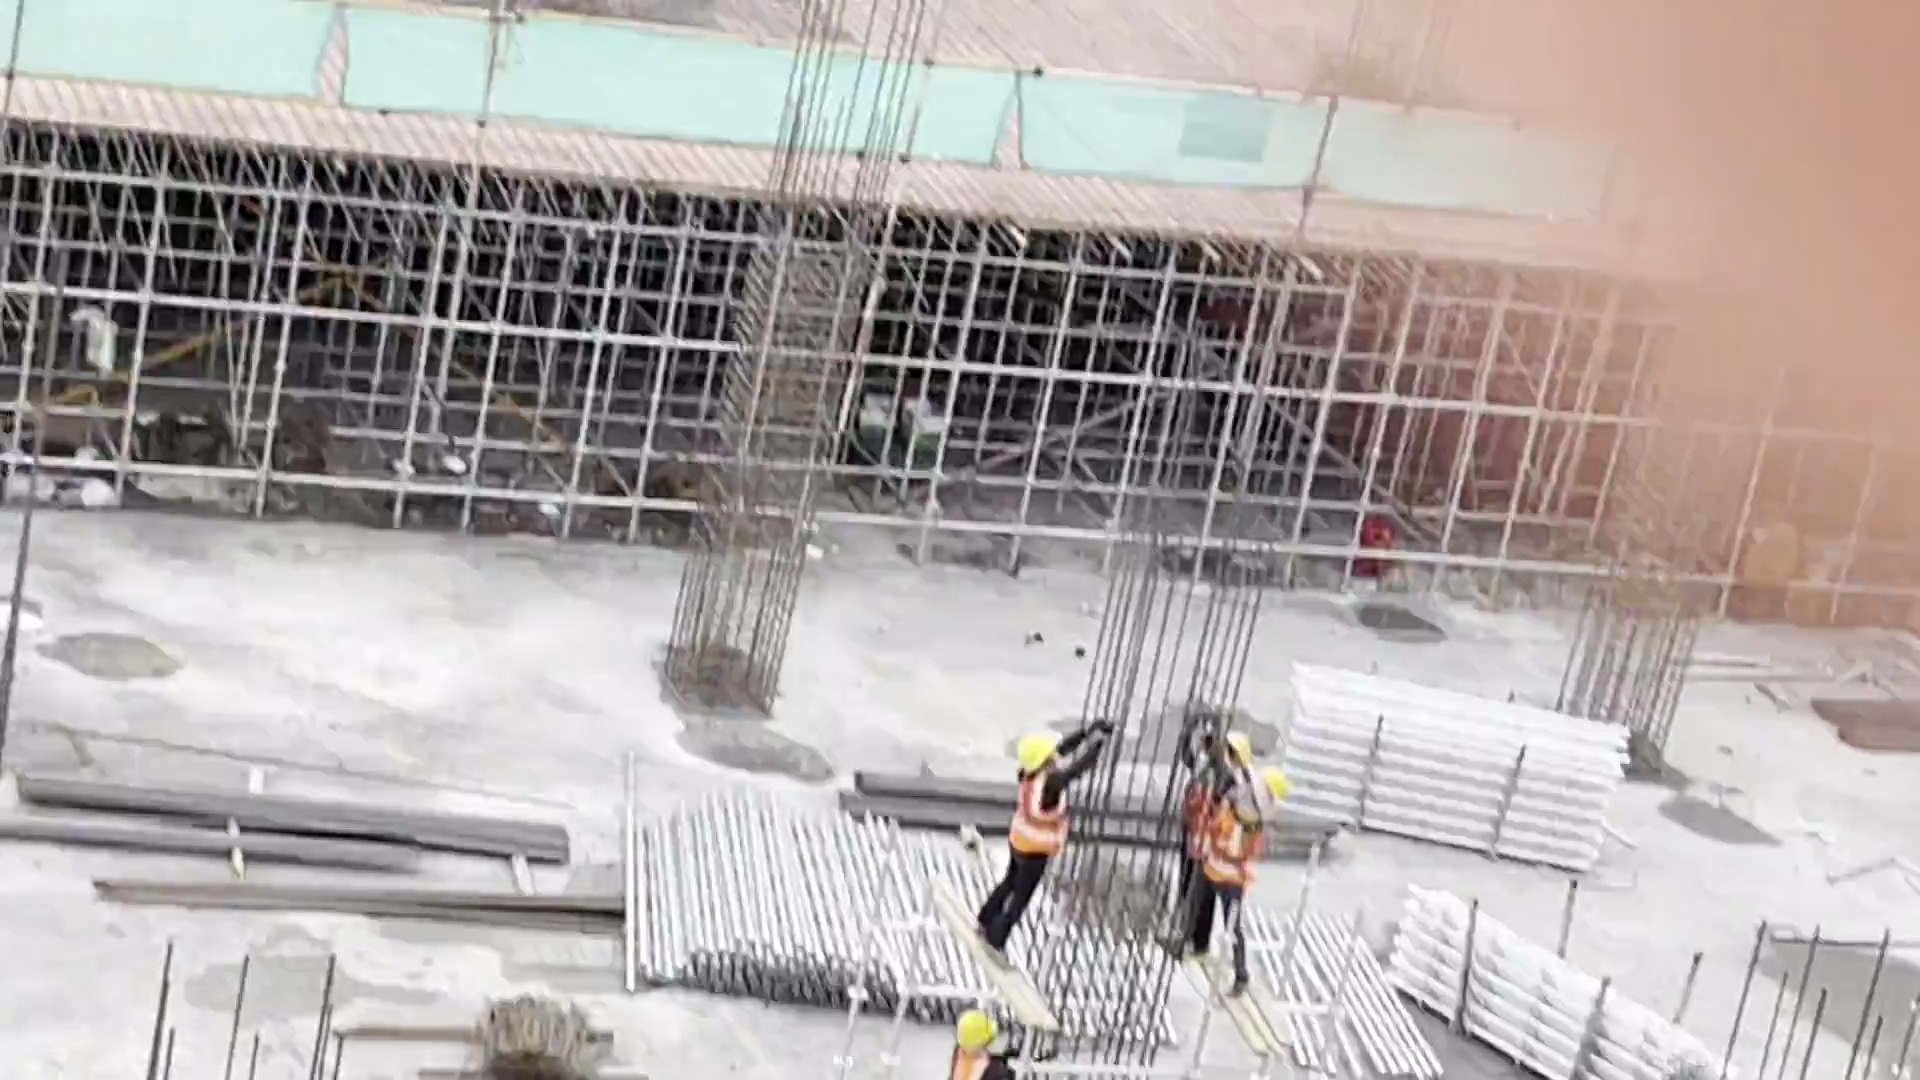helmet: (1018, 724, 1063, 771), (954, 1011, 997, 1053), (1230, 731, 1254, 772), (1260, 772, 1286, 809)
person: (985, 723, 1071, 954), (1207, 771, 1286, 991), (1178, 720, 1240, 887)
rebar: (17, 767, 575, 860), (1, 799, 401, 880), (116, 883, 644, 942)
scaffold: (596, 779, 1081, 1026), (1268, 650, 1628, 880), (1403, 872, 1720, 1080)
vest: (1010, 772, 1067, 857), (1208, 794, 1259, 883)
